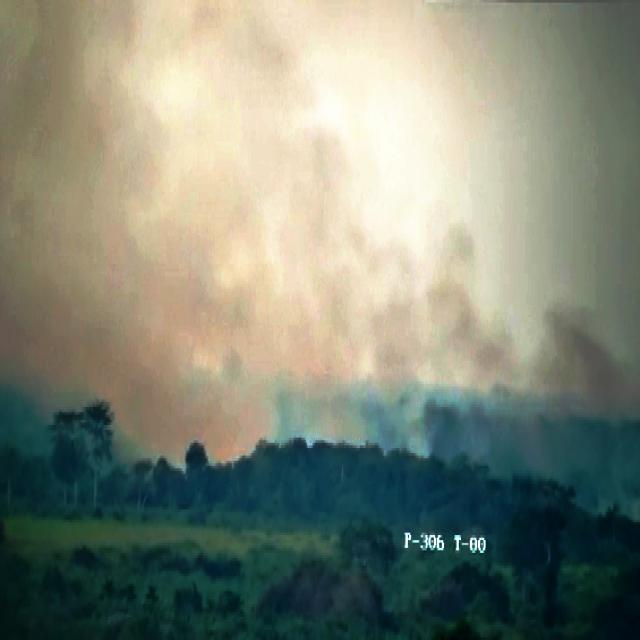asap: (1, 1, 444, 503), (392, 185, 640, 541)
